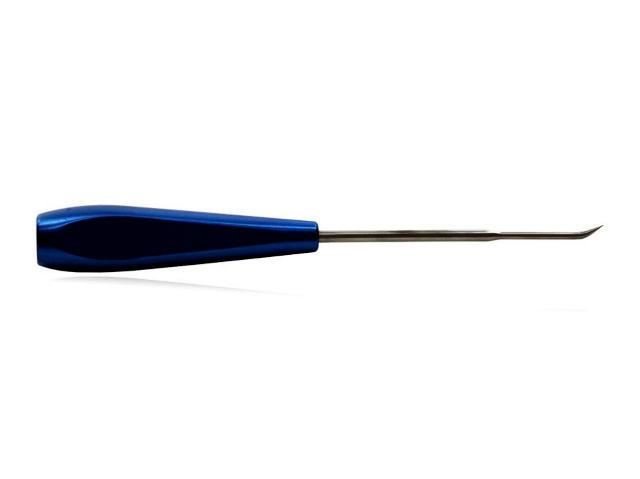ice pick: (35, 204, 608, 274)
